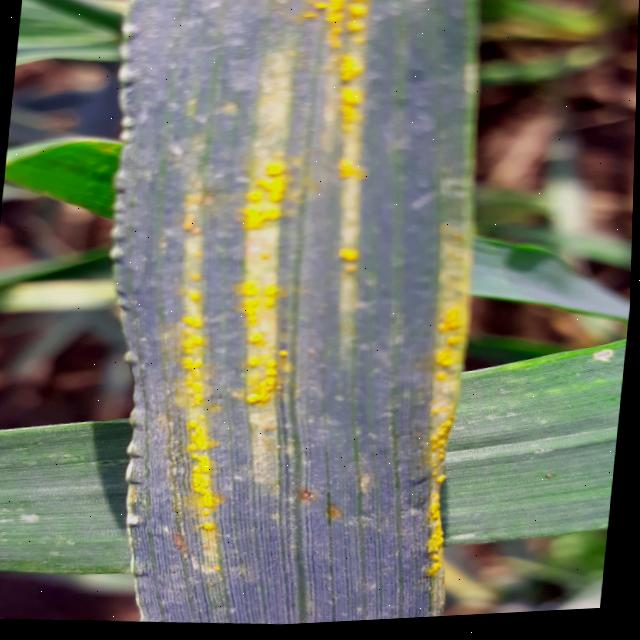yellow_rust: (14, 0, 580, 633)
